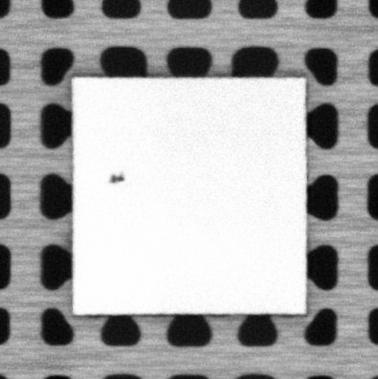DIE_INK: (108, 172, 124, 186)
